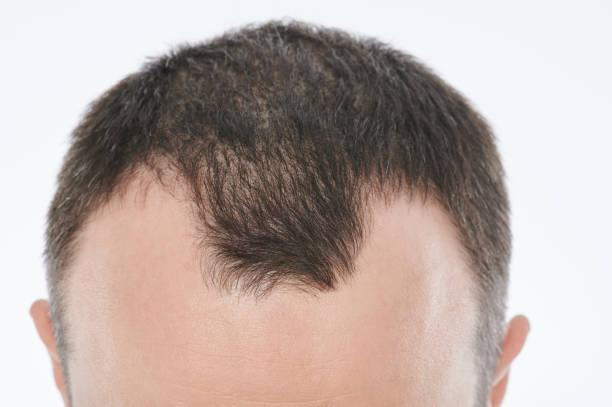low hair density: (209, 222, 257, 292), (212, 146, 267, 206), (242, 82, 270, 128), (282, 146, 305, 198), (309, 47, 334, 84), (351, 86, 364, 112)
